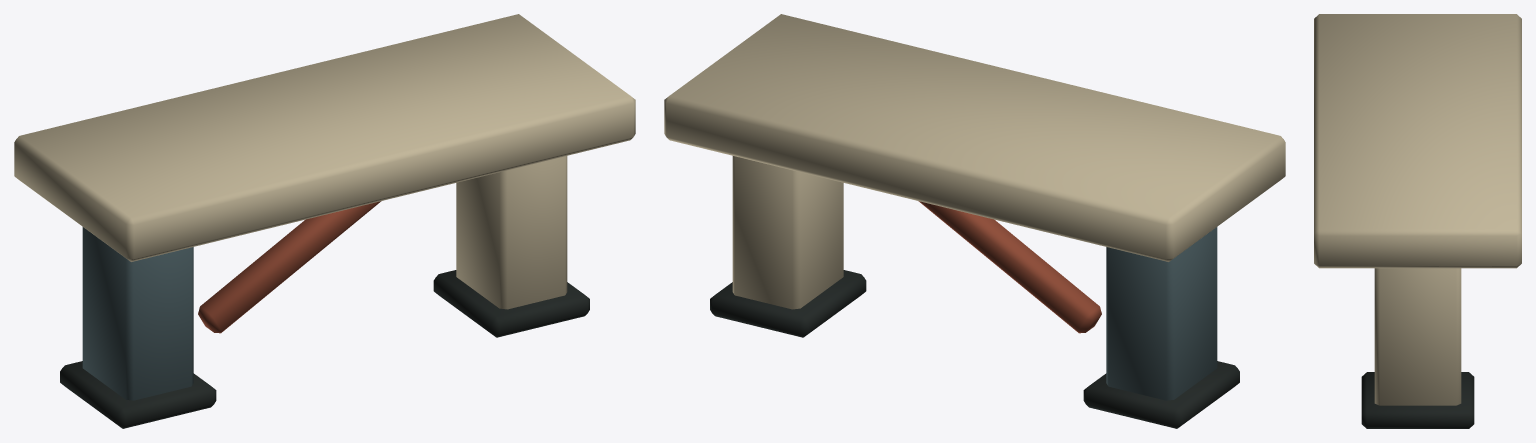
The model's file is prop_bench.glb.
The picture shows the model from 3 angles, left to right: view 1: azimuth 30°, elevation 25°; view 2: azimuth 150°, elevation 25°; view 3: azimuth 270°, elevation 25°; orthographic projection. The views are drawn at different scales.
Visible parts, largest first — view 1: Surface; view 2: Surface; view 3: Surface.
Part boxes in pixels (x1=…): Surface: x1=14, y1=14, x2=635, y2=428; Surface: x1=664, y1=14, x2=1285, y2=428; Surface: x1=1314, y1=14, x2=1521, y2=428.
Size of the model in its own units: 3 by 1.33 by 1.2.
